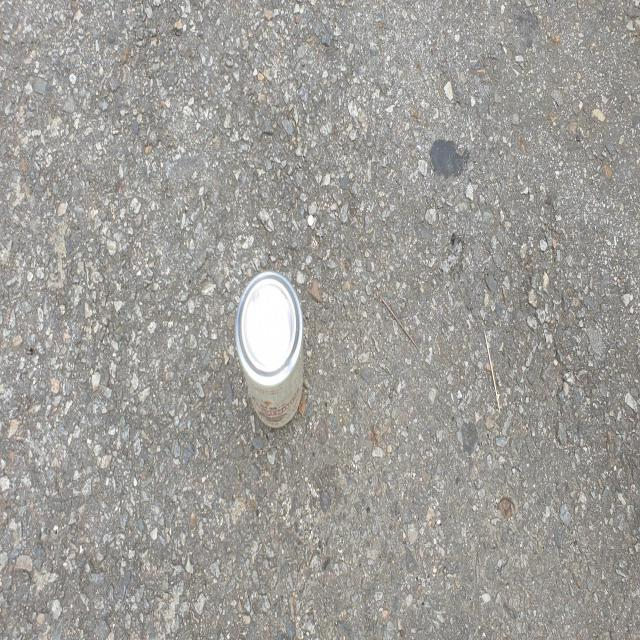can: (235, 271, 304, 428)
